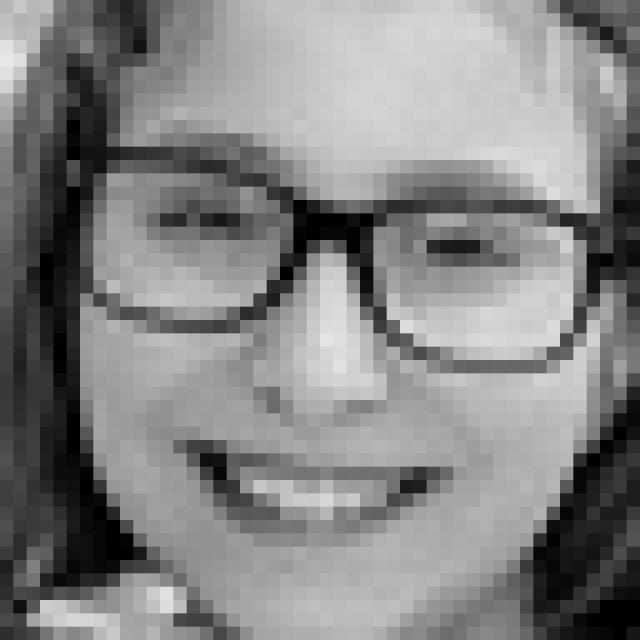happy: (117, 118, 554, 568)
